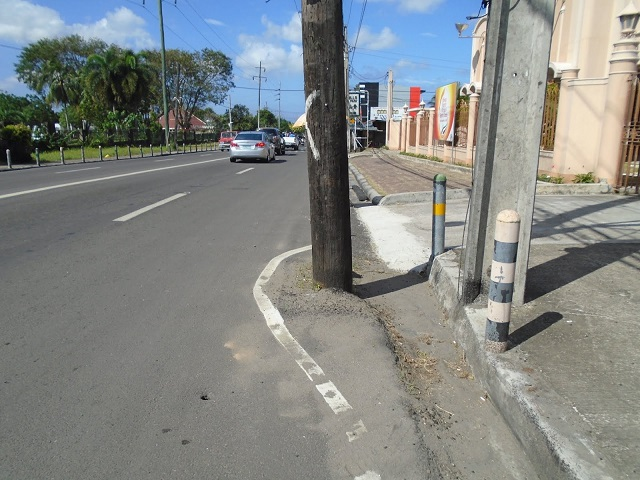car: (231, 129, 275, 162)
pole: (303, 1, 352, 292), (482, 2, 528, 298), (489, 211, 515, 351), (158, 2, 171, 142), (432, 175, 444, 251)
tree: (33, 45, 85, 134), (94, 48, 145, 135)
